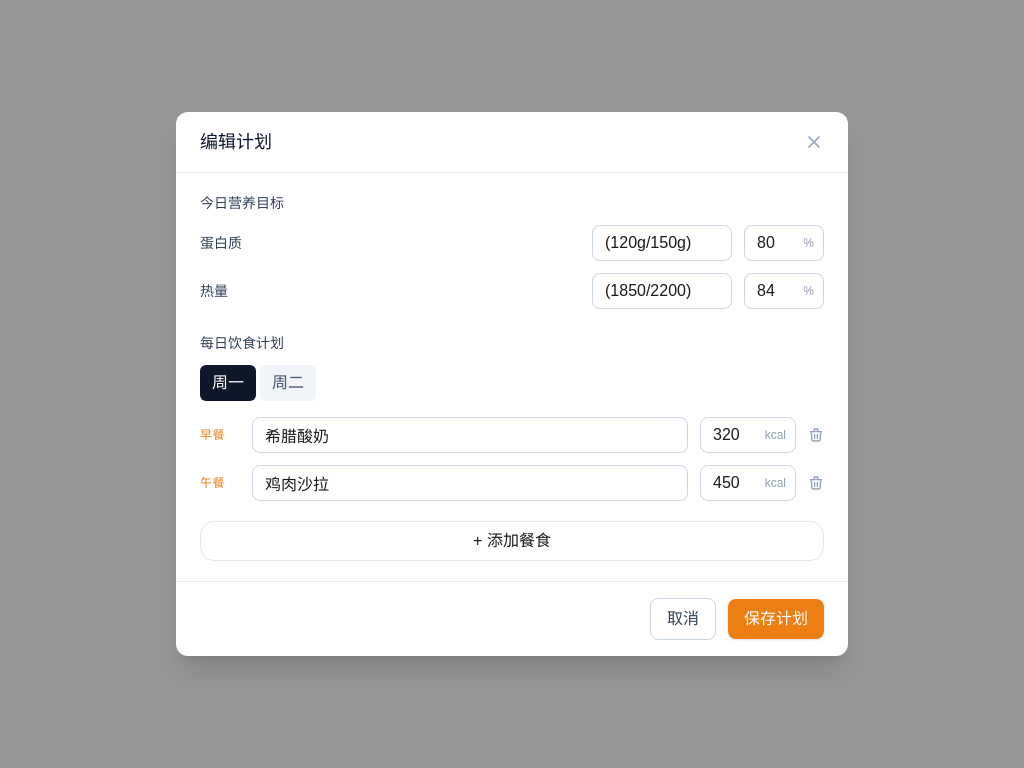
EditPlanModal › Tab 切换展示对应日期的餐食
expect the field showing "希腊酸奶" next to "早餐" is shown: met, box [252,417,688,453]
Click the button "周二": [288, 383] box [260,365,316,401]
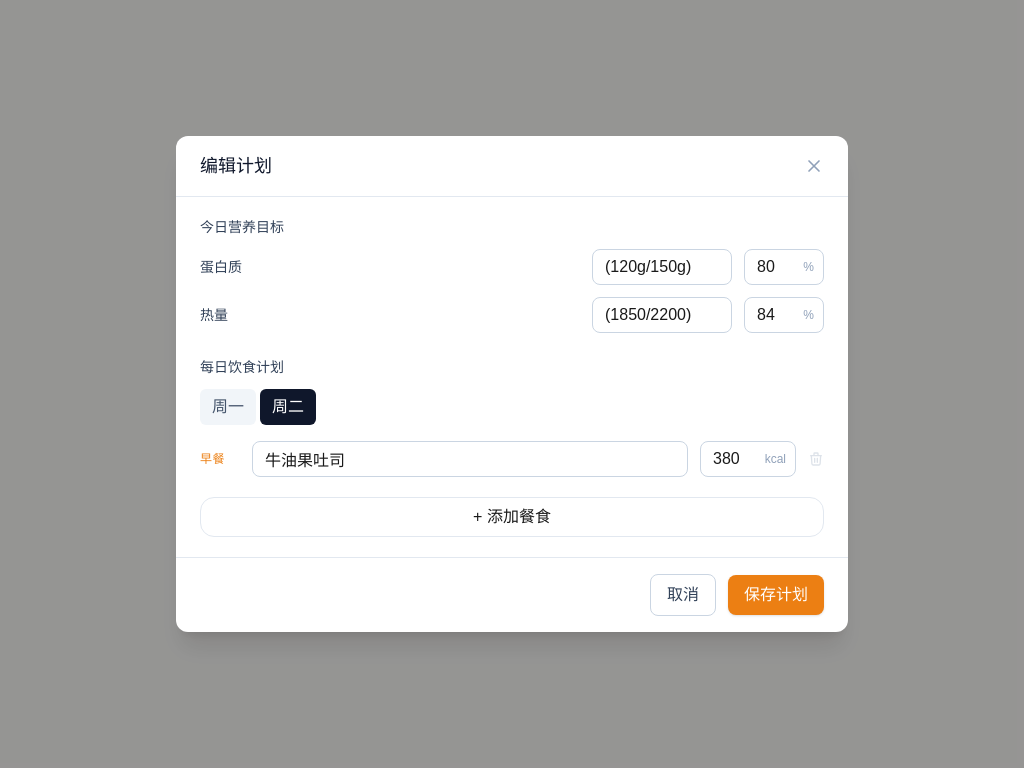
expect the field showing "希腊酸奶" is not shown: met
expect the field showing "牛油果吐司" next to "早餐" is shown: met, box [252,441,688,477]
